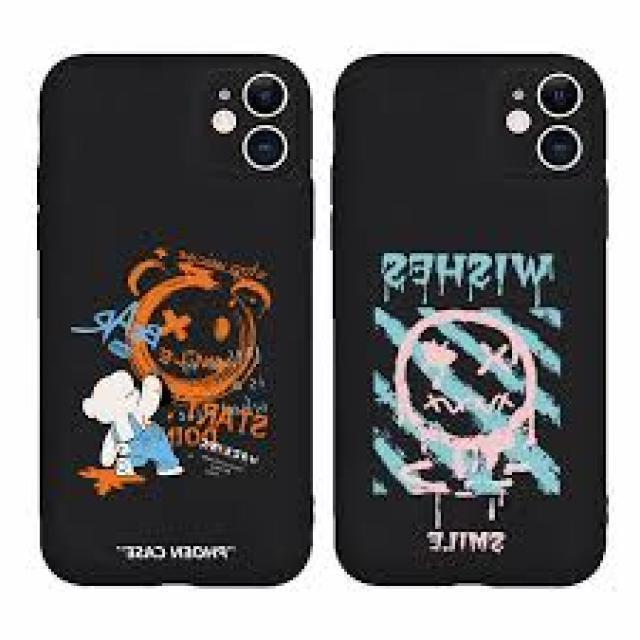mobile: (34, 46, 320, 593), (331, 50, 611, 590)
